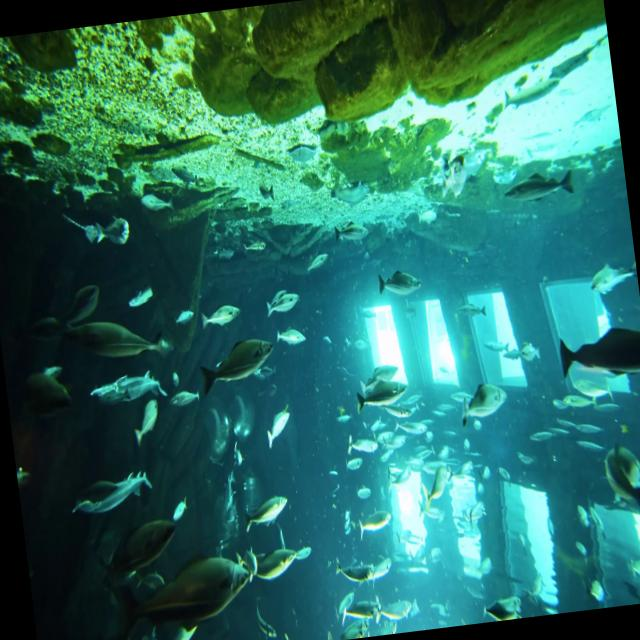fish: (117, 552, 255, 640), (59, 304, 168, 366), (200, 334, 280, 396), (556, 323, 640, 382), (67, 465, 154, 517), (88, 365, 168, 412), (501, 163, 575, 205), (456, 377, 511, 424), (356, 373, 408, 418), (240, 493, 288, 534), (376, 263, 424, 297), (200, 302, 240, 332)
